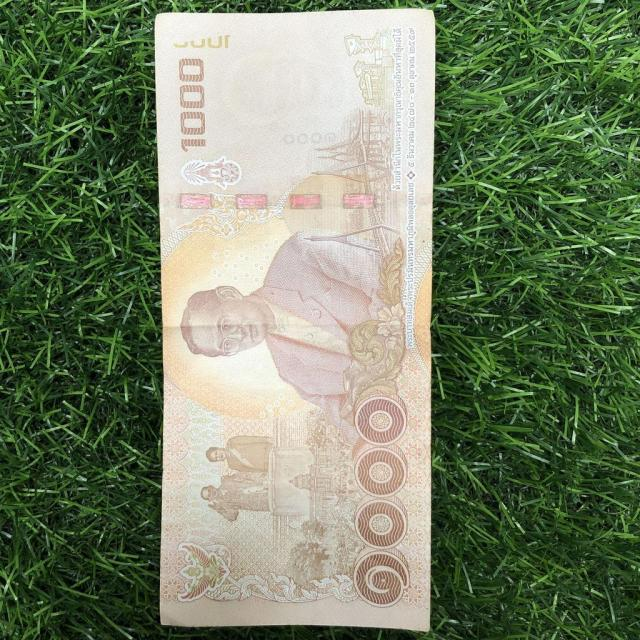THAI1000: (153, 8, 438, 636)
